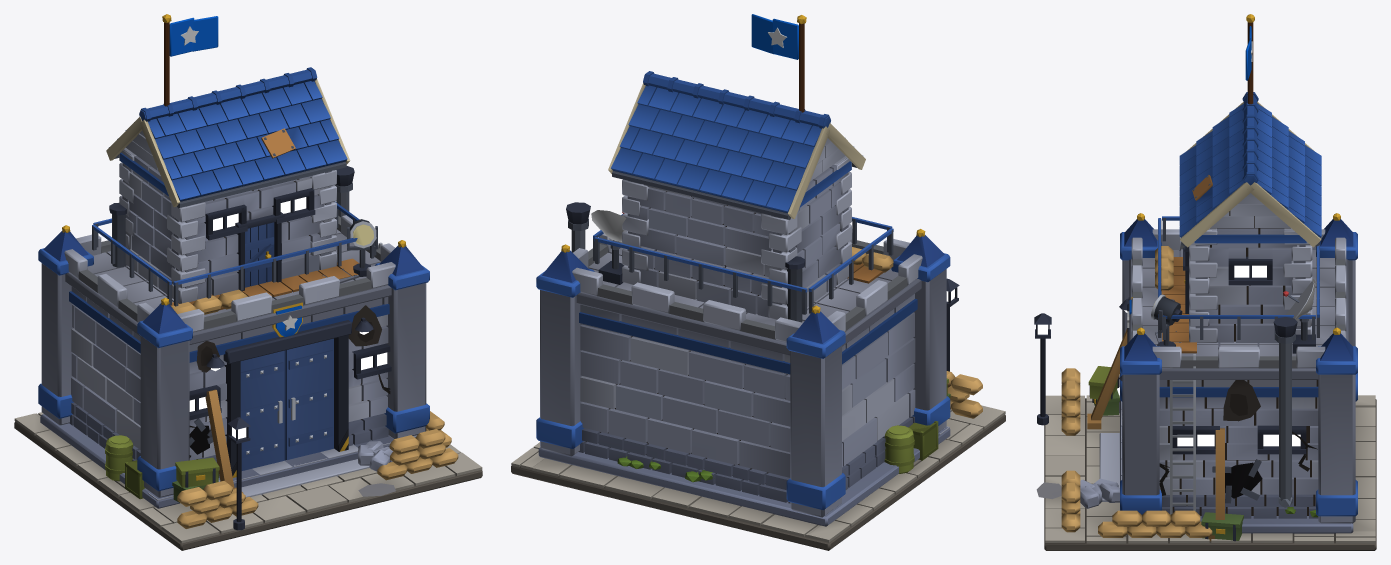
File: b_bunker_3.glb
The picture shows the model from 3 angles, left to right: view 1: azimuth 30°, elevation 25°; view 2: azimuth 150°, elevation 25°; view 3: azimuth 270°, elevation 25°; orthographic projection. The views are drawn at different scales.
Parts seen in each view (by area): view 1: body, lv6_extra, dmg2_bruch, sway_flag, dmg1_spuren, win_glow, sway_scheinwerfer; view 2: body, lv6_extra, sway_flag, spin_schuessel; view 3: body, dmg2_bruch, lv6_extra, dmg1_spuren, win_glow, sway_scheinwerfer, spin_schuessel.
Boxes of the visible parts, left/top/right/bottom form: body: left=14, top=14, right=482, bottom=550; lv6_extra: left=105, top=417, right=445, bottom=530; dmg2_bruch: left=189, top=389, right=392, bottom=493; sway_flag: left=169, top=16, right=218, bottom=56; dmg1_spuren: left=189, top=305, right=390, bottom=457; win_glow: left=189, top=197, right=387, bottom=411; sway_scheinwerfer: left=347, top=219, right=378, bottom=250; body: left=511, top=15, right=1005, bottom=550; lv6_extra: left=884, top=278, right=982, bottom=473; sway_flag: left=751, top=14, right=798, bottom=59; spin_schuessel: left=591, top=210, right=626, bottom=249; body: left=1036, top=14, right=1376, bottom=550; dmg2_bruch: left=1080, top=328, right=1262, bottom=541; lv6_extra: left=1034, top=313, right=1243, bottom=541; dmg1_spuren: left=1159, top=380, right=1317, bottom=495; win_glow: left=1177, top=265, right=1300, bottom=446; sway_scheinwerfer: left=1151, top=294, right=1182, bottom=332; spin_schuessel: left=1283, top=279, right=1315, bottom=322.
Bounding box in the file's own units: 7.41 × 10.29 × 7.33.
